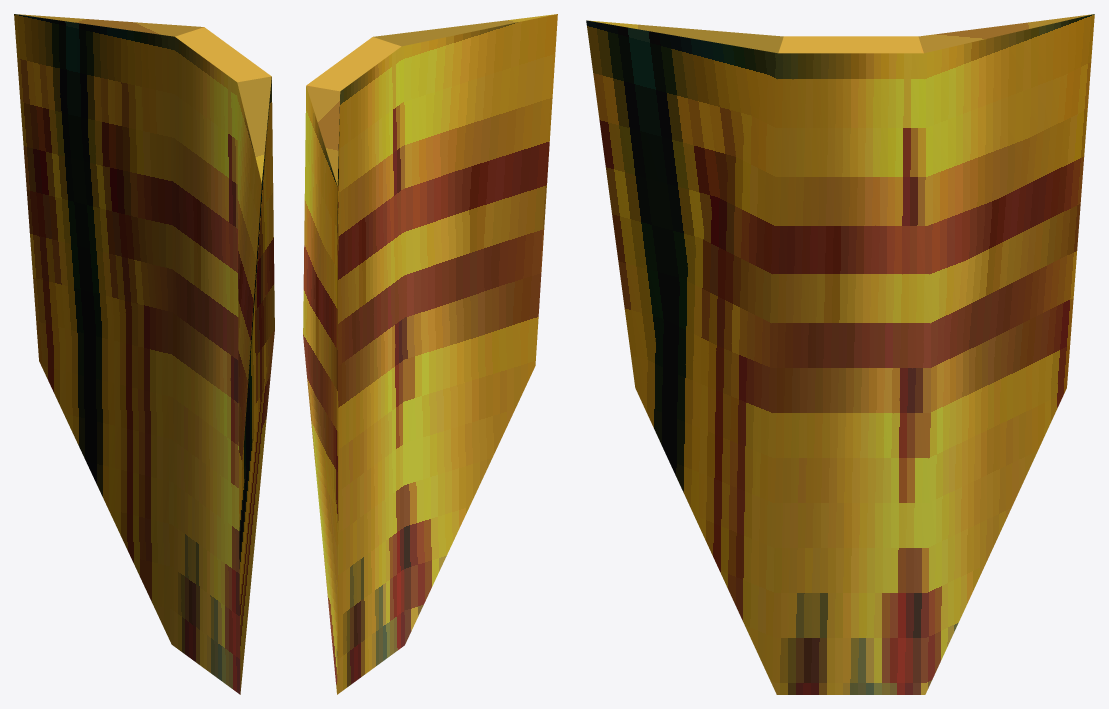
File: fengzhidun001.FBX
The picture shows the model from 3 angles, left to right: view 1: azimuth 30°, elevation 25°; view 2: azimuth 150°, elevation 25°; view 3: azimuth 270°, elevation 25°; orthographic projection. The views are drawn at different scales.
Visible parts, largest first — view 1: SMDImport; view 2: SMDImport; view 3: SMDImport.
Boxes of the visible parts, bbox=[...] form: SMDImport: bbox=[14, 14, 274, 694]; SMDImport: bbox=[303, 14, 557, 694]; SMDImport: bbox=[586, 14, 1094, 694].
Bounding box in the file's own units: 15.26 × 80.07 × 56.05.
Materials: 1 (1 with a texture image).
